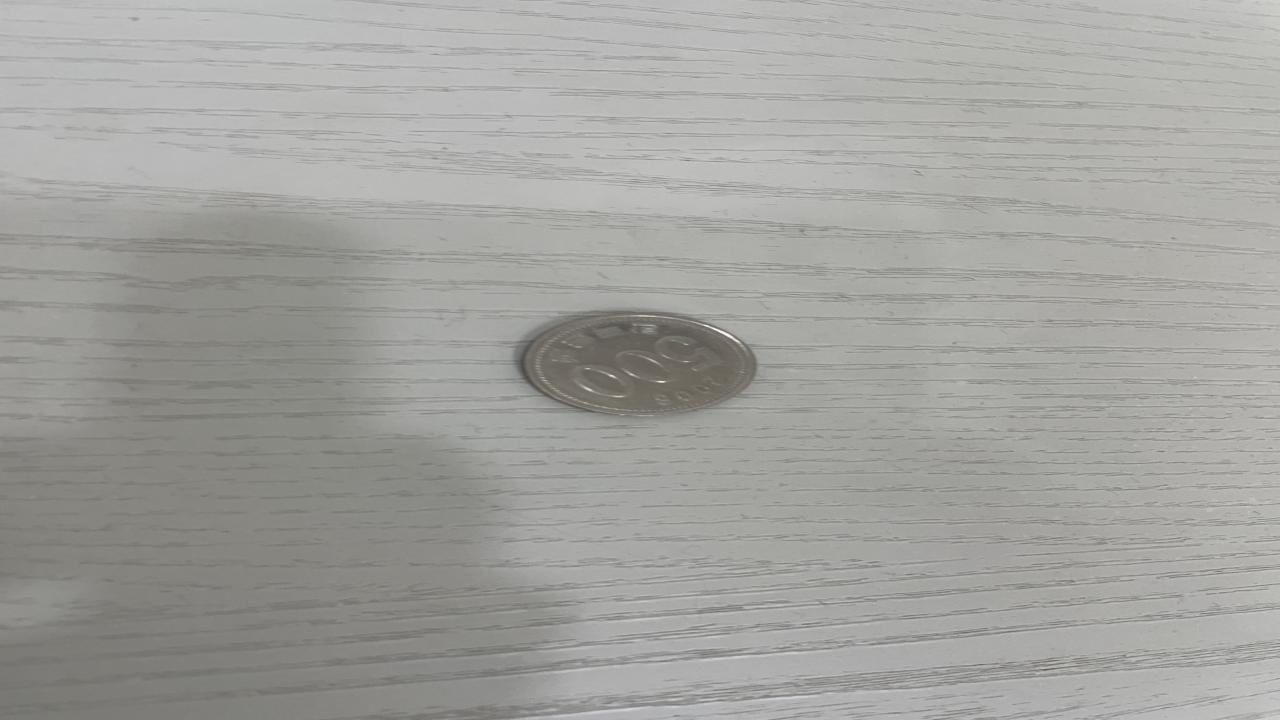coin: (513, 310, 768, 417)
